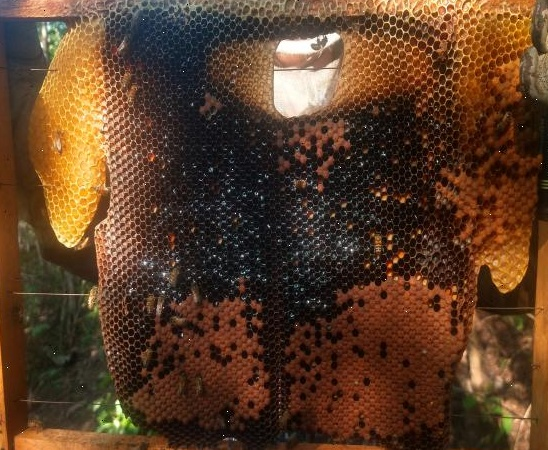cria: (128, 275, 465, 442), (436, 59, 544, 250)
